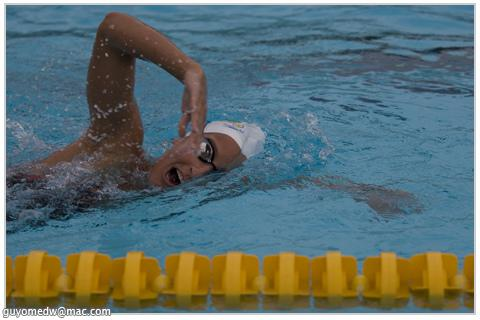human: (2, 8, 262, 230)
